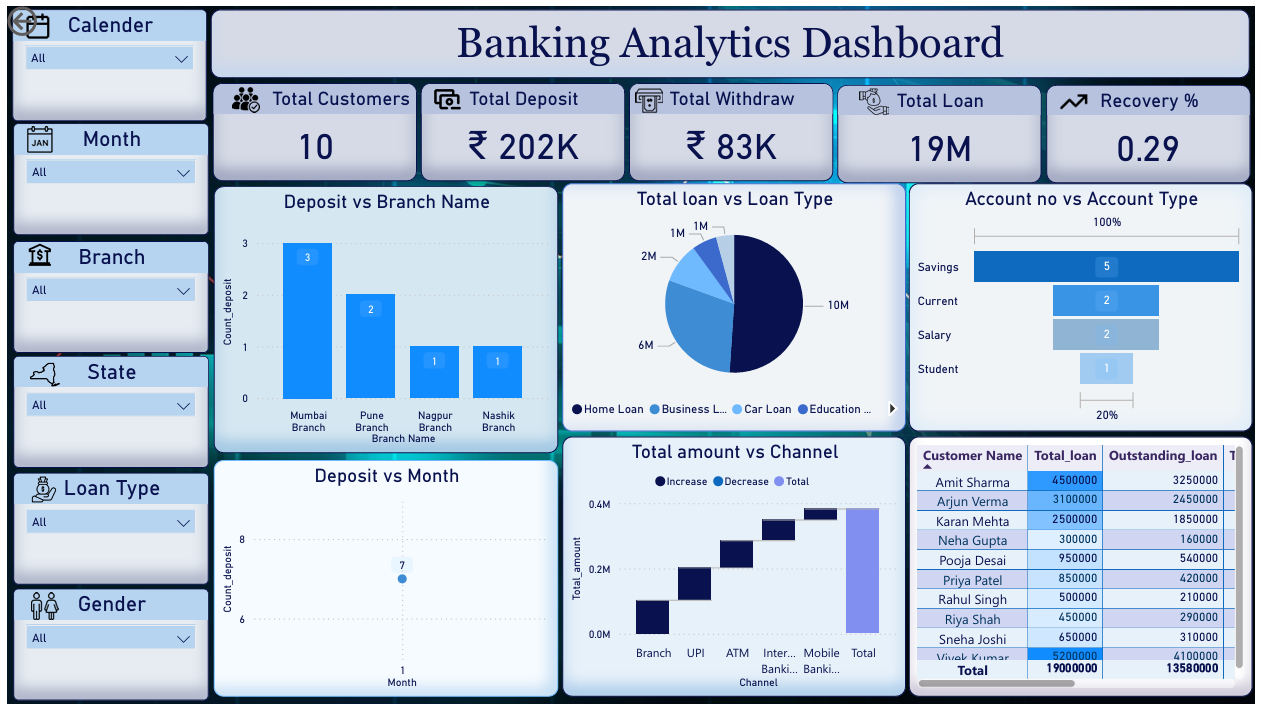

The dashboard page shown, as its layout file describes it:
{"tool":"powerbi","page":{"name":"Page 1","canvas":[1280,720],"ordinal":0},"visuals":[{"type":"image","box":[0,0,1279.8,720],"z":0},{"type":"textbox","box":[211.7,8.3,1058.3,70],"z":1000},{"type":"slicer","title":"Calender","fields":{"Values":["Date Table.Year"]},"box":[10,8.3,198.3,113.3],"z":2000},{"type":"slicer","title":"Month","fields":{"Values":["Date Table.Month_Name"]},"box":[10.8,124,198.9,114.1],"z":3000},{"type":"slicer","title":"Branch ","fields":{"Values":["Branch.Branch Name"]},"box":[10.8,243.7,198.9,114.1],"z":4000},{"type":"slicer","title":"State","fields":{"Values":["Branch.State"]},"box":[10.8,360.9,198.9,114.1],"z":5000},{"type":"slicer","title":"Loan Type","fields":{"Values":["Loan.Loan Type"]},"box":[10.8,479.6,198.9,114.1],"z":6000},{"type":"slicer","title":"Gender","fields":{"Values":["Customer Table.Gender"]},"box":[10.8,598.4,198.9,114.1],"z":7000},{"type":"card","title":"Total Customers","fields":{"Values":["Customer Table.Total_customer"]},"box":[214.4,83.3,208,100],"z":8000},{"type":"card","title":"Total Deposit      ","fields":{"Values":["Transaction.Total_deposit_sum"]},"box":[425.6,83.3,208,100],"z":9000},{"type":"card","title":"Total Withdraw ","fields":{"Values":["Transaction.Total_withdrawal_sum"]},"box":[638.5,83.3,208,100],"z":10000},{"type":"card","title":"Total Loan","fields":{"Values":["Loan.Total_loan"]},"box":[849.7,84.8,208,100],"z":11000},{"type":"card","title":"Recovery %","fields":{"Values":["Loan.Recovery_%"]},"box":[1062.6,84.8,208,100],"z":12000},{"type":"lineChart","title":"Deposit vs Month","fields":{"Y":["Transaction.Count_deposit"],"Category":["Date Table.Month"]},"box":[214.5,467.3,351.2,241],"z":13000},{"type":"columnChart","title":"Deposit vs Branch Name","fields":{"Category":["Branch.Branch Name"],"Y":["Transaction.Count_deposit"]},"box":[214.5,188.1,351.2,271.8],"z":14000},{"type":"pieChart","title":"Total loan vs Loan Type","fields":{"Y":["Loan.Total_loan"],"Category":["Loan.Loan Type"]},"box":[570,185,350,253.3],"z":15000},{"type":"funnel","title":"Account no vs  Account Type","fields":{"Y":["Account.Count_account_no"],"Category":["Account.Account Type"]},"box":[923.3,185,350,253.3],"z":16000},{"type":"waterfallChart","title":"Total amount vs Channel","fields":{"Category":["Transaction.Channel"],"Y":["Transaction.Total_amount"]},"box":[570,443.3,350,265],"z":17000},{"type":"pivotTable","fields":{"Rows":["Customer Table.Customer Name"],"Values":["Loan.Total_loan","Loan.Outstanding_loan","Transaction.Total_deposit_sum","Account.Total_balance"]},"box":[923.3,443.3,350,265],"z":18000},{"type":"image","box":[13.3,121.7,50,38.3],"z":19000},{"type":"image","box":[13.3,238.3,50,40],"z":20000},{"type":"image","box":[13.3,360,60,40],"z":21000},{"type":"image","box":[13.3,476.7,60,40],"z":22000},{"type":"image","box":[13.3,596.7,60,38.3],"z":23000},{"type":"image","box":[16.7,5,38.3,40],"z":24000},{"type":"image","box":[218.3,80,60,38.3],"z":25000},{"type":"image","box":[410,79.3,83.8,41.1],"z":26000},{"type":"image","box":[628.9,82.3,60.2,38.2],"z":27000},{"type":"image","box":[848.3,81.7,80,40],"z":28000},{"type":"image","box":[1058.3,81.7,65,40],"z":29000},{"type":"actionButton","box":[0,0,100,40],"z":30000}]}

Visuals, with their boxes in screenshot pixels (x1, y1, x2, y2), scaled from the page's 1280x720 canvas onto the 1262x707 screenshot:
image: x1=0, y1=0, x2=1261, y2=706
textbox: x1=209, y1=8, x2=1252, y2=77
"Calender" slicer: x1=10, y1=8, x2=205, y2=119
"Month" slicer: x1=11, y1=122, x2=207, y2=234
"Branch " slicer: x1=11, y1=239, x2=207, y2=351
"State" slicer: x1=11, y1=354, x2=207, y2=466
"Loan Type" slicer: x1=11, y1=471, x2=207, y2=583
"Gender" slicer: x1=11, y1=588, x2=207, y2=700
"Total Customers" card: x1=211, y1=82, x2=416, y2=180
"Total Deposit      " card: x1=420, y1=82, x2=625, y2=180
"Total Withdraw " card: x1=630, y1=82, x2=835, y2=180
"Total Loan" card: x1=838, y1=83, x2=1043, y2=181
"Recovery %" card: x1=1048, y1=83, x2=1253, y2=181
"Deposit vs Month" lineChart: x1=211, y1=459, x2=558, y2=696
"Deposit vs Branch Name" columnChart: x1=211, y1=185, x2=558, y2=452
"Total loan vs Loan Type" pieChart: x1=562, y1=182, x2=907, y2=430
"Account no vs  Account Type" funnel: x1=910, y1=182, x2=1255, y2=430
"Total amount vs Channel" waterfallChart: x1=562, y1=435, x2=907, y2=696
pivotTable - Customer Table.Customer Name x Loan.Total_loan: x1=910, y1=435, x2=1255, y2=696
image: x1=13, y1=120, x2=62, y2=157
image: x1=13, y1=234, x2=62, y2=273
image: x1=13, y1=354, x2=72, y2=393
image: x1=13, y1=468, x2=72, y2=507
image: x1=13, y1=586, x2=72, y2=624
image: x1=16, y1=5, x2=54, y2=44
image: x1=215, y1=79, x2=274, y2=116
image: x1=404, y1=78, x2=487, y2=118
image: x1=620, y1=81, x2=679, y2=118
image: x1=836, y1=80, x2=915, y2=120
image: x1=1043, y1=80, x2=1108, y2=120
actionButton: x1=0, y1=0, x2=99, y2=39
